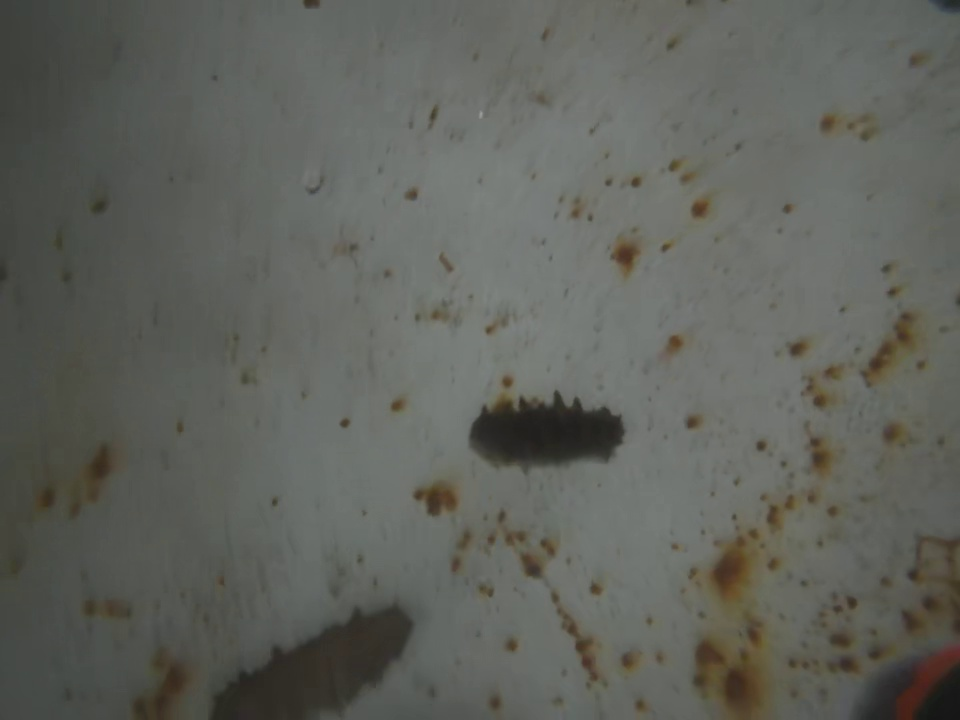seacucumber: (206, 601, 436, 720), (468, 400, 634, 468)
